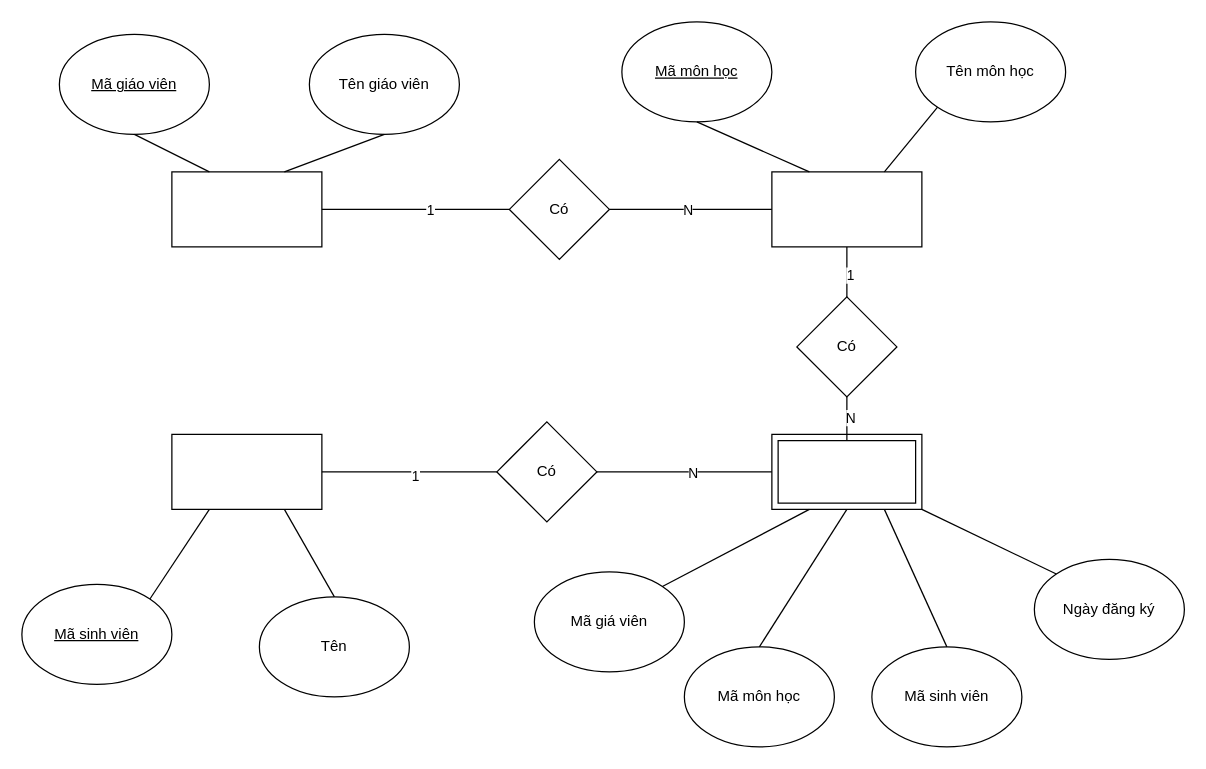
This 1206x769 diagram has some shape labels left out. The shapes that lost their labels are listed below. From the top down, each one's centre as x and y in pixels, then its label:
At (246,209): "Giáo viên".
At (846,209): "Môn học".
At (246,471): "Sinh viên".
At (846,471): "Đăng ký".
